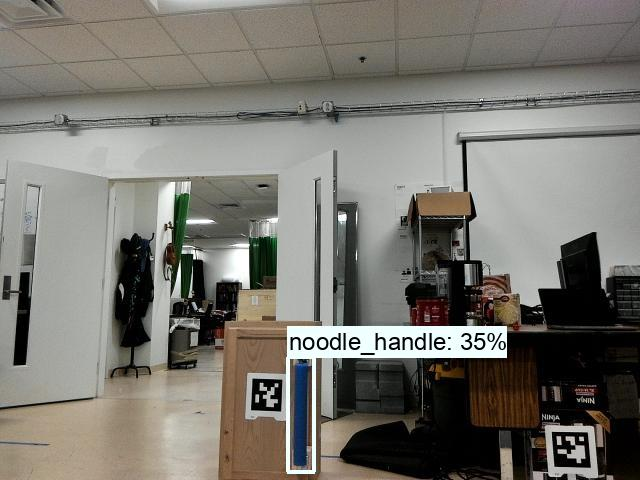noodle_handle: (289, 355, 316, 468)
